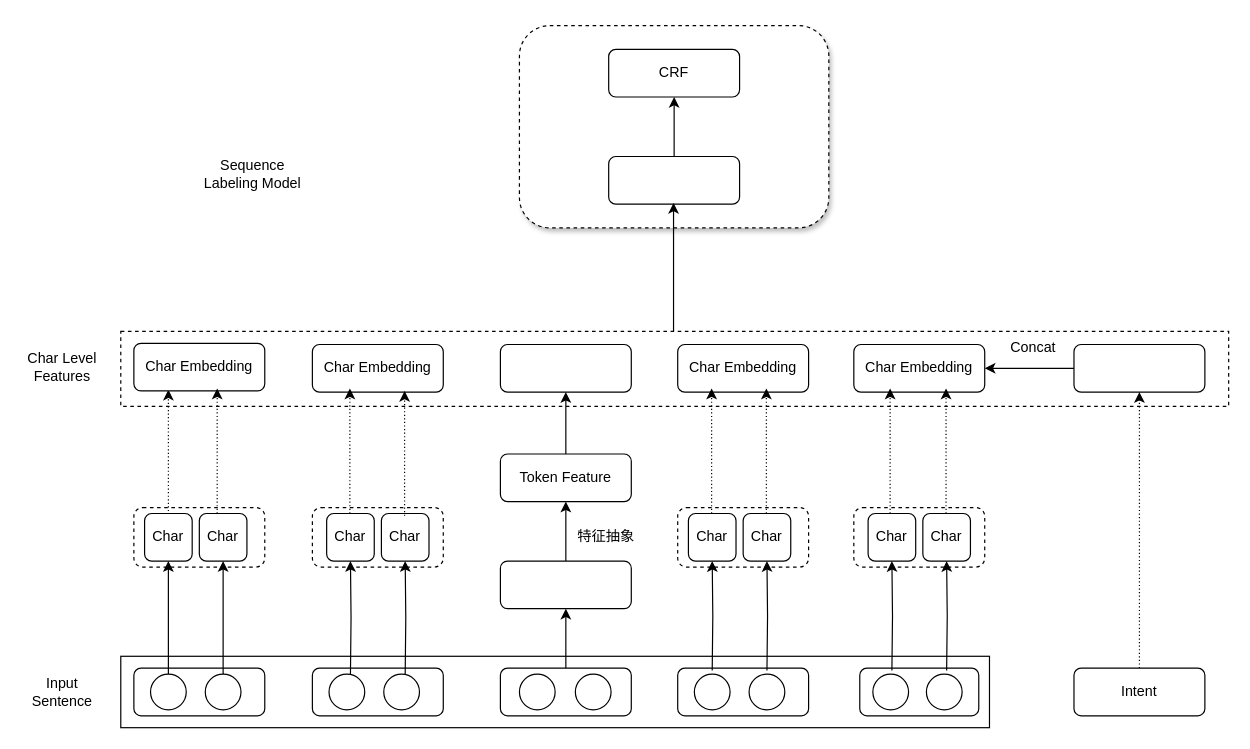
Some shapes in this 1250 by 749 pixel diagram are drawn without their labels. Each missing label, with the centre of its shape:
BiLstm: the point at 673,179
Intent Features: the point at 1139,367
Semantic Feature: the point at 565,367
Token: the point at 565,584
